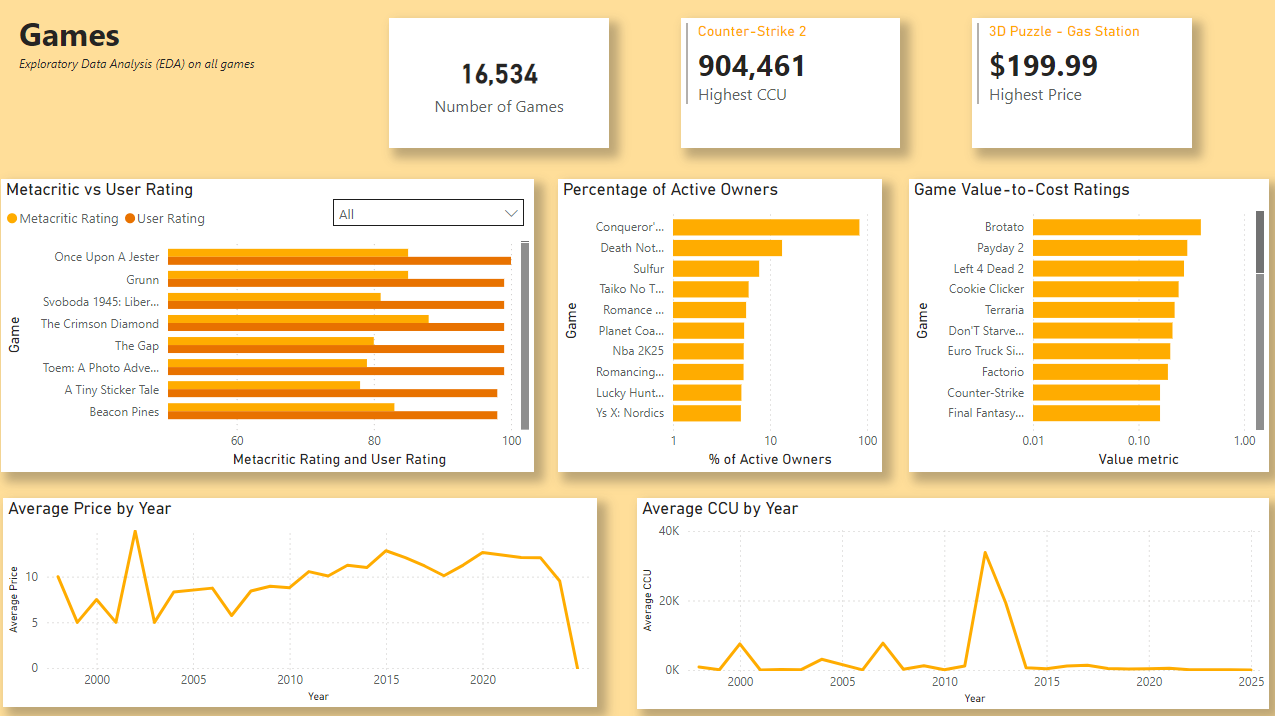

What the dashboard file says about the page in this screenshot:
{"tool":"powerbi","page":{"name":"Games","canvas":[1280,720],"ordinal":3},"visuals":[{"type":"textbox","box":[11.7,7,364.3,142.1],"z":0},{"type":"multiRowCard","fields":{"Values":["steam_info game_metrics.Highest CCU Game","Max(steam_info game_metrics.ccu)"]},"box":[683.6,19.4,219.8,129.7],"z":1},{"type":"multiRowCard","fields":{"Values":["steam_info game_metrics.Highest Cost Game","steam_info game_metrics.max price"]},"box":[974.8,19.4,220,130],"z":2},{"type":"card","fields":{"Values":["Count(steam_info game_metrics.game_id)"]},"box":[392.2,19.4,220,130],"z":3},{"type":"clusteredBarChart","title":"Metacritic vs User Rating","fields":{"Category":["steam_info user_score_to_metacritic.name"],"Y":["Sum(steam_info user_score_to_metacritic.metacritic_score)","Sum(steam_info user_score_to_metacritic.user_score_pos)"]},"box":[3.9,180.2,533.6,292.8],"z":4},{"type":"slicer","fields":{"Values":["steam_info user_score_to_metacritic.name"]},"box":[326.2,189.5,211.3,52.8],"z":5},{"type":"barChart","title":"Game Value-to-Cost Ratings","fields":{"Category":["steam_info ccu_rating_cost_analysis.name"],"Y":["Sum(steam_info ccu_rating_cost_analysis.initial_value_rating)"]},"box":[911.8,180.2,360.4,292.8],"z":6},{"type":"barChart","title":"Percentage of Active Owners","fields":{"Category":["steam_info active_owners.name"],"Y":["Sum(steam_info active_owners.pct_active_owners)"]},"box":[560.8,180.2,324.7,292.8],"z":8},{"type":"lineChart","fields":{"Category":["steam_info game_metrics.release_date.Variation.Date Hierarchy.Year"],"Y":["Avg(steam_info game_metrics.ccu)"]},"box":[640,499.4,632.2,210.5],"z":9},{"type":"lineChart","fields":{"Category":["steam_info game_metrics.release_date.Variation.Date Hierarchy.Year"],"Y":["Avg(steam_info game_metrics.initial_price)"]},"box":[6.2,499.4,594.2,208.2],"z":10}]}

Visuals, with their boxes in screenshot pixels (x1, y1, x2, y2), scaled from the page's 1280x720 canvas onto the 1275x716 screenshot:
textbox: Rect(12, 7, 375, 148)
multiRowCard - steam_info game_metrics.Highest CCU Game x Max(steam_info game_metrics.ccu): Rect(681, 19, 900, 148)
multiRowCard - steam_info game_metrics.Highest Cost Game x steam_info game_metrics.max price: Rect(971, 19, 1190, 149)
card - Count(steam_info game_metrics.game_id): Rect(391, 19, 610, 149)
"Metacritic vs User Rating" clusteredBarChart: Rect(4, 179, 535, 470)
slicer - steam_info user_score_to_metacritic.name: Rect(325, 188, 535, 241)
"Game Value-to-Cost Ratings" barChart: Rect(908, 179, 1267, 470)
"Percentage of Active Owners" barChart: Rect(559, 179, 882, 470)
lineChart - steam_info game_metrics.release_date.Variation.Date Hierarchy.Year x Avg(steam_info game_metrics.ccu): Rect(638, 497, 1267, 706)
lineChart - steam_info game_metrics.release_date.Variation.Date Hierarchy.Year x Avg(steam_info game_metrics.initial_price): Rect(6, 497, 598, 704)
